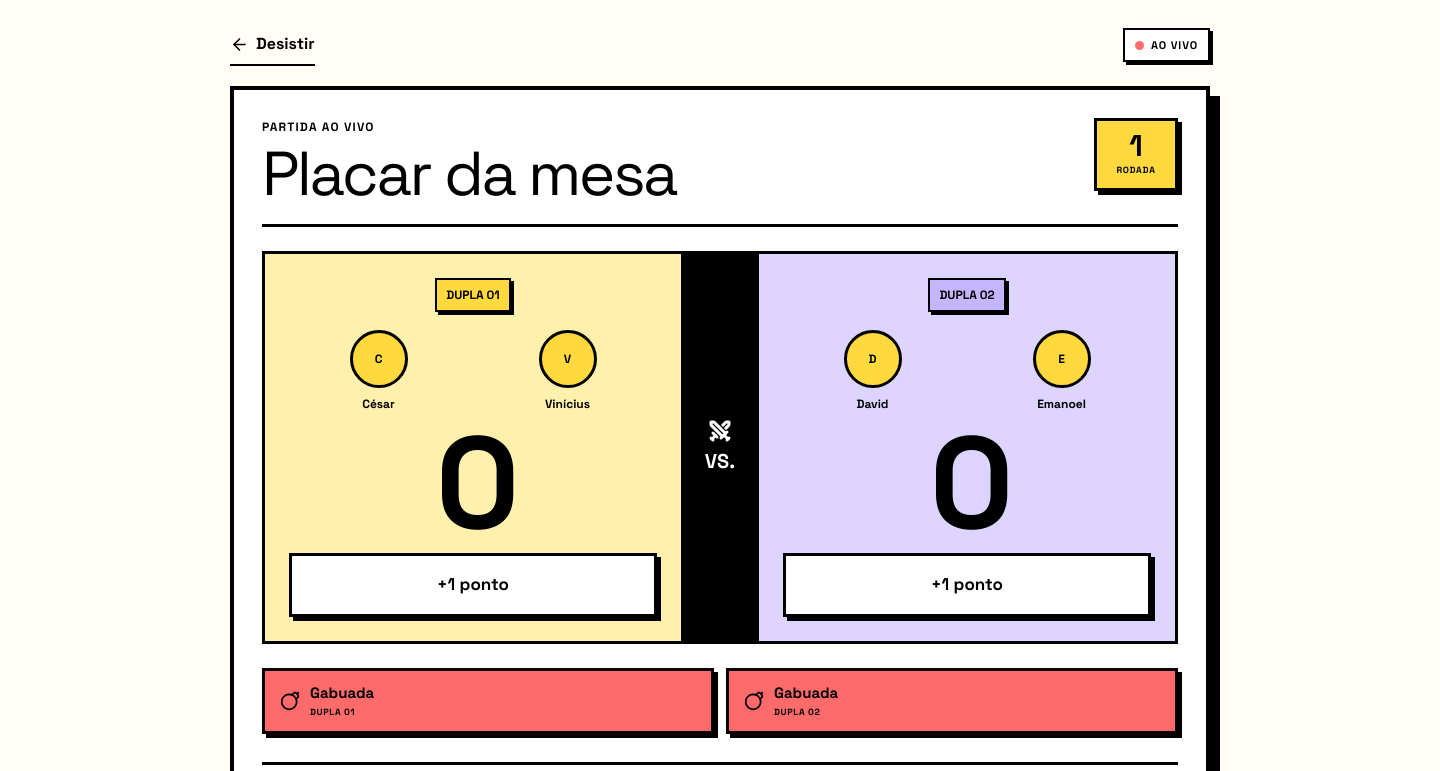
Test: LiveGame › abre o modal de desistência quando a partida já começou
Click the button "+1 ponto" below "César": (473, 585) x1=289 y1=553 x2=657 y2=617
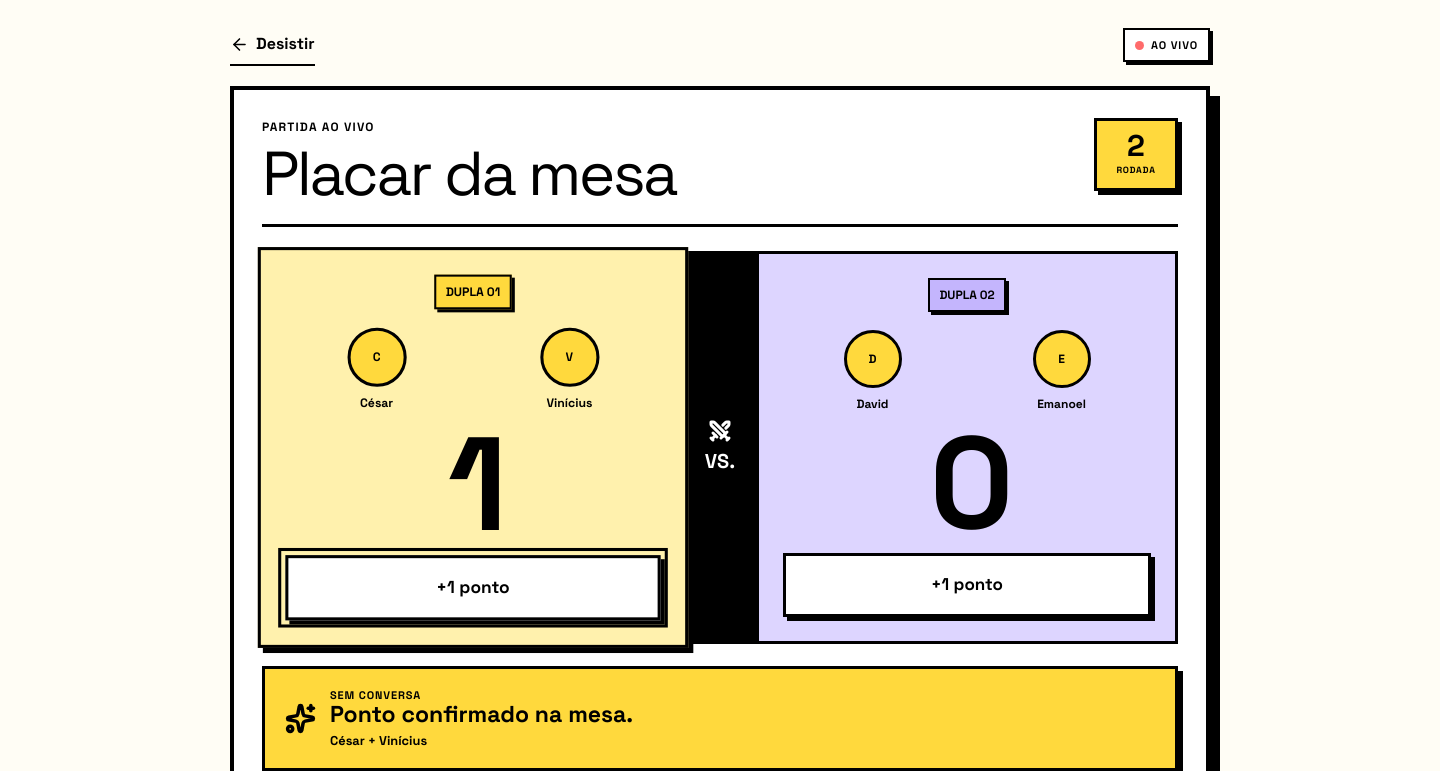
Click the button "Desistir": (272, 45) x1=230 y1=24 x2=315 y2=66
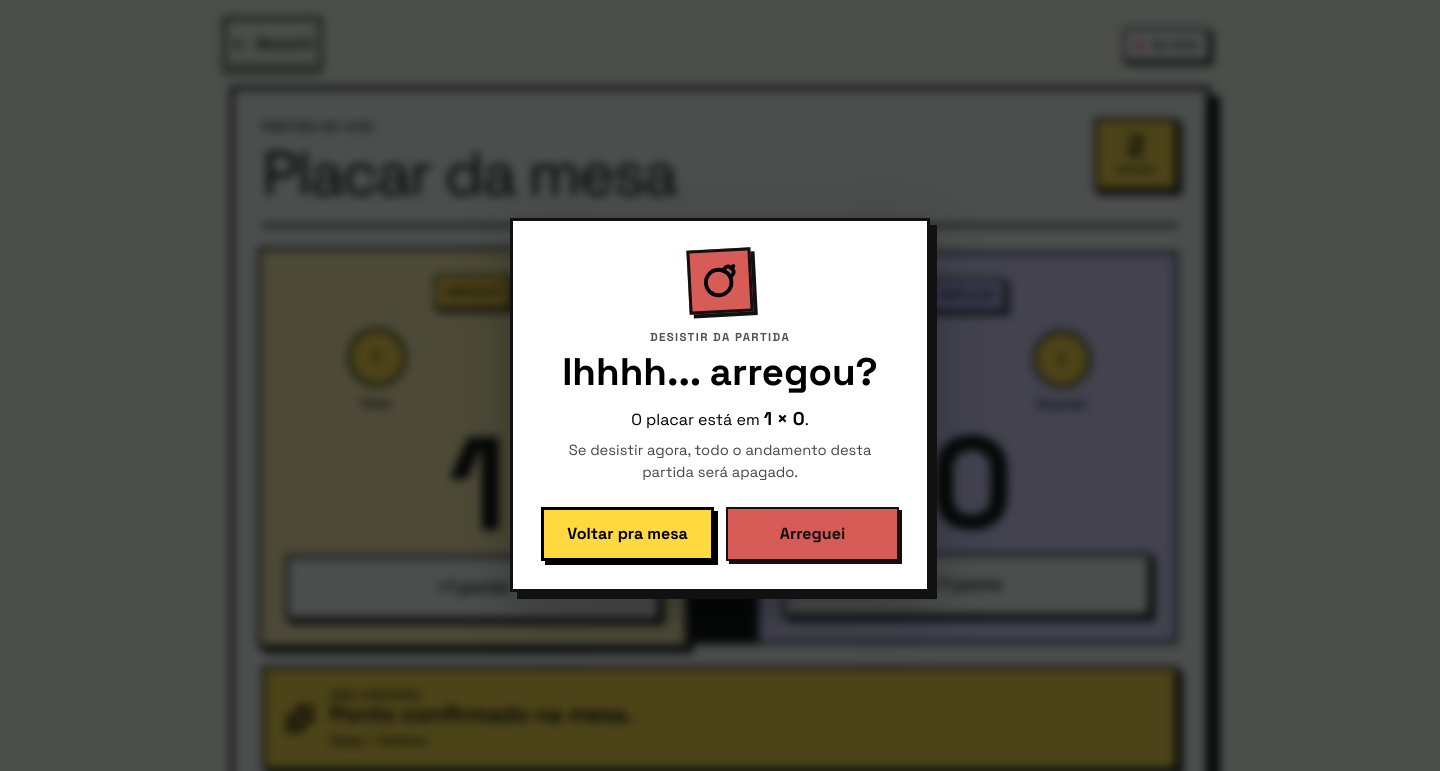
Check: the dialog is shown, box x1=510 y1=218 x2=930 y2=592
Check: the heading "Ihhhh... arregou?" is shown, box x1=541 y1=353 x2=899 y2=392
